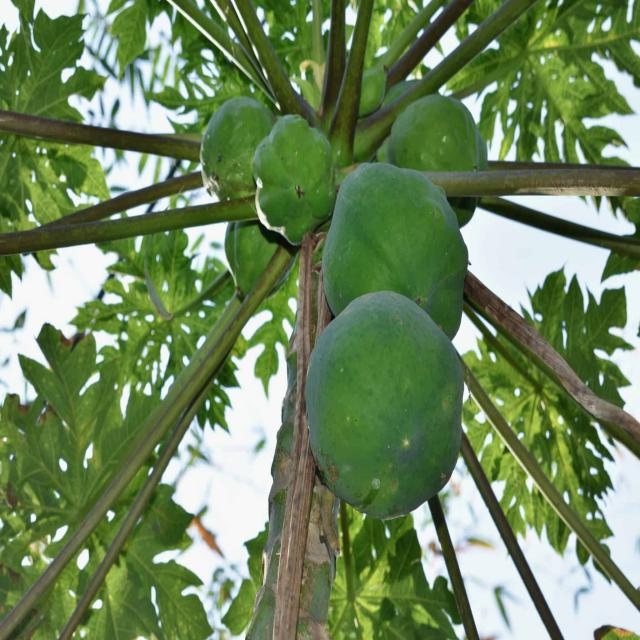Pepaya unrippen: (296, 288, 470, 520), (326, 162, 470, 310), (257, 112, 333, 256), (396, 78, 486, 175), (196, 93, 263, 194)
